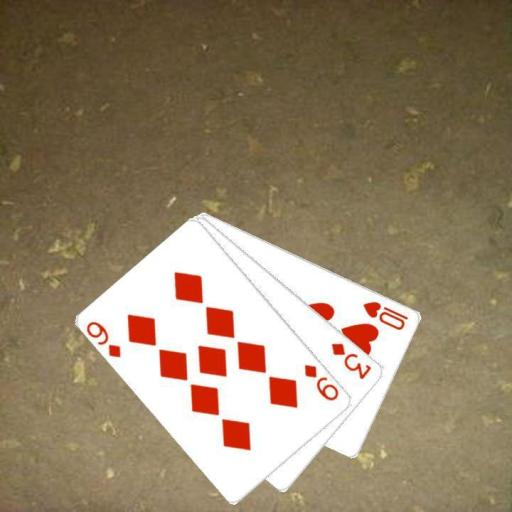card-corner: (328, 339, 373, 381), (360, 298, 410, 332), (83, 318, 123, 359), (302, 362, 342, 402)
